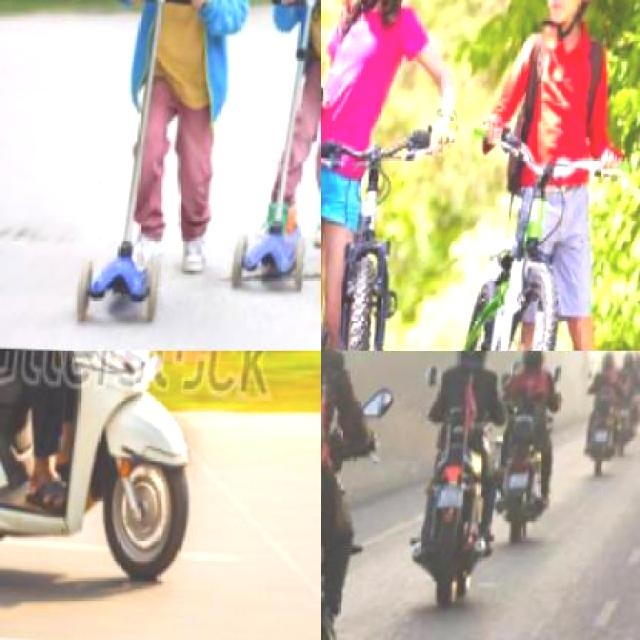With Helmet: (526, 0, 616, 45), (449, 351, 498, 380), (517, 351, 557, 383), (599, 351, 623, 377)
